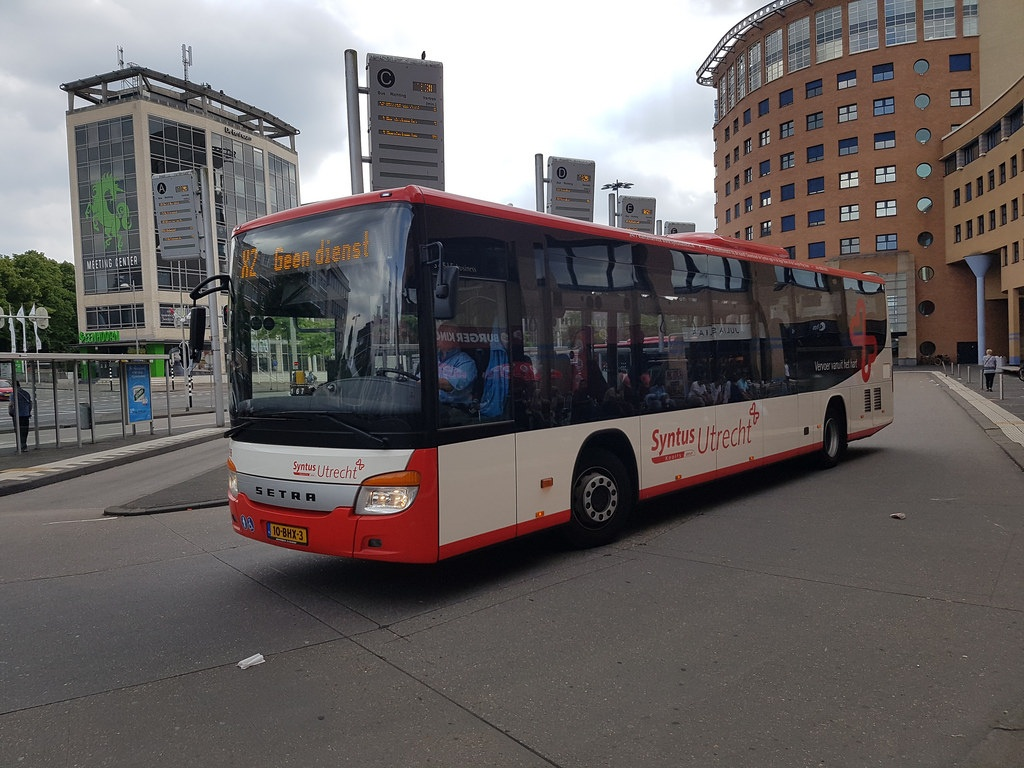bus: (192, 181, 929, 563)
